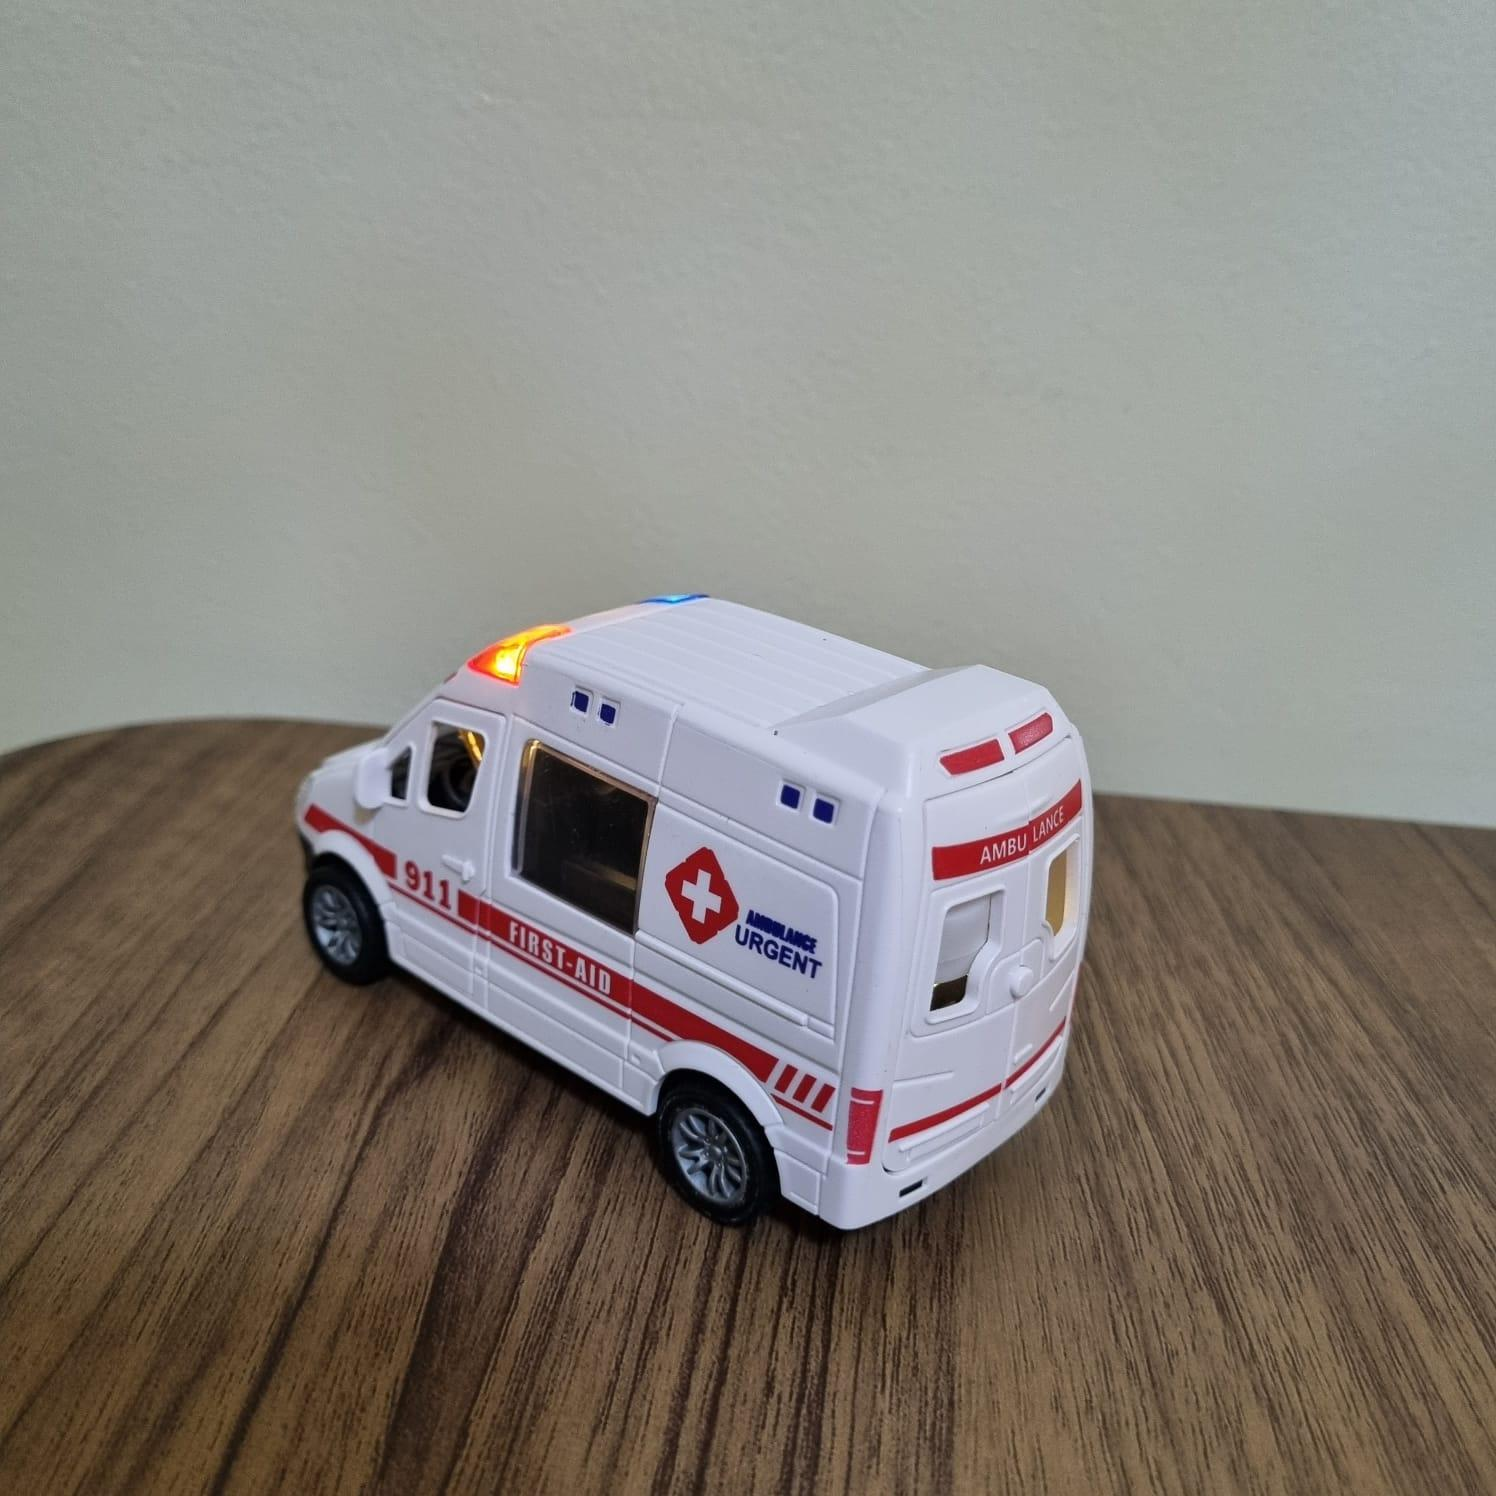ambulance_on: (290, 586, 1097, 1229)
